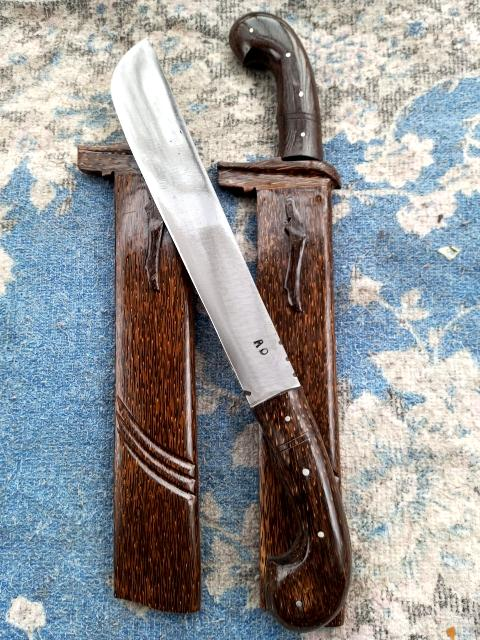long knife: (111, 36, 353, 634), (229, 12, 346, 628)
